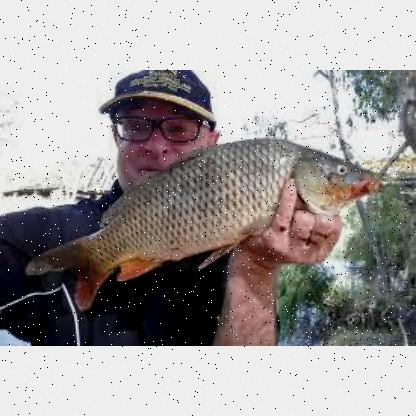ikan-mas: (49, 130, 379, 294)
